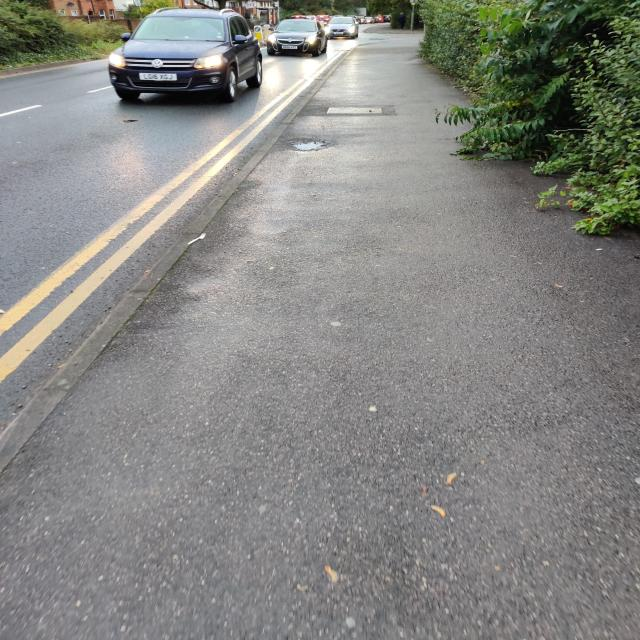litter: (187, 233, 206, 244), (597, 249, 604, 251)
